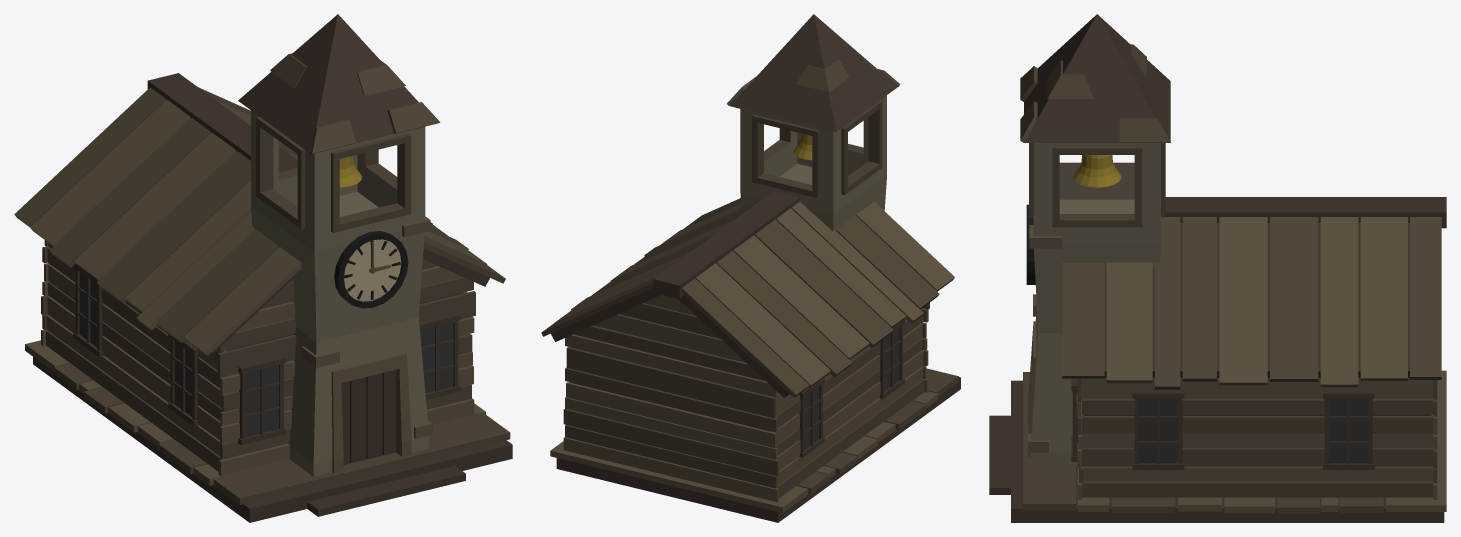
The model's file is Chiesetta.fbx.
3 views of the same model, side by side, from view 1: azimuth 30°, elevation 25°; view 2: azimuth 150°, elevation 25°; view 3: azimuth 270°, elevation 25° (orthographic). The views are drawn at different scales.
Parts seen in each view (by area): view 1: Marrone_Variazione, Marrone_Chiaro, Marrone_Scuro, Beige, Grigio, Bianco, Nero; view 2: Marrone_Variazione, Marrone_Chiaro, Marrone_Scuro, Beige, Grigio; view 3: Marrone_Variazione, Marrone_Chiaro, Marrone_Scuro, Beige, Grigio, Oro, Nero.
Boxes of the visible parts, left/top/right/bottom form: Marrone_Variazione: left=14, top=53, right=510, bottom=504; Marrone_Chiaro: left=25, top=100, right=487, bottom=485; Marrone_Scuro: left=33, top=14, right=512, bottom=522; Beige: left=251, top=110, right=429, bottom=476; Grigio: left=79, top=272, right=453, bottom=436; Bianco: left=344, top=239, right=401, bottom=301; Nero: left=334, top=231, right=408, bottom=308; Marrone_Variazione: left=541, top=59, right=958, bottom=497; Marrone_Chiaro: left=550, top=201, right=954, bottom=512; Marrone_Scuro: left=551, top=14, right=960, bottom=522; Beige: left=740, top=95, right=886, bottom=231; Grigio: left=804, top=327, right=899, bottom=449; Marrone_Variazione: left=1020, top=44, right=1441, bottom=514; Marrone_Chiaro: left=1027, top=217, right=1446, bottom=513; Marrone_Scuro: left=989, top=14, right=1446, bottom=522; Beige: left=1030, top=143, right=1160, bottom=466; Grigio: left=1139, top=399, right=1368, bottom=463; Oro: left=1073, top=155, right=1121, bottom=187; Nero: left=1026, top=204, right=1035, bottom=284.
Size of the model in its own units: 635 by 846 by 789.
